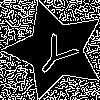Y: (30, 25, 87, 81)
